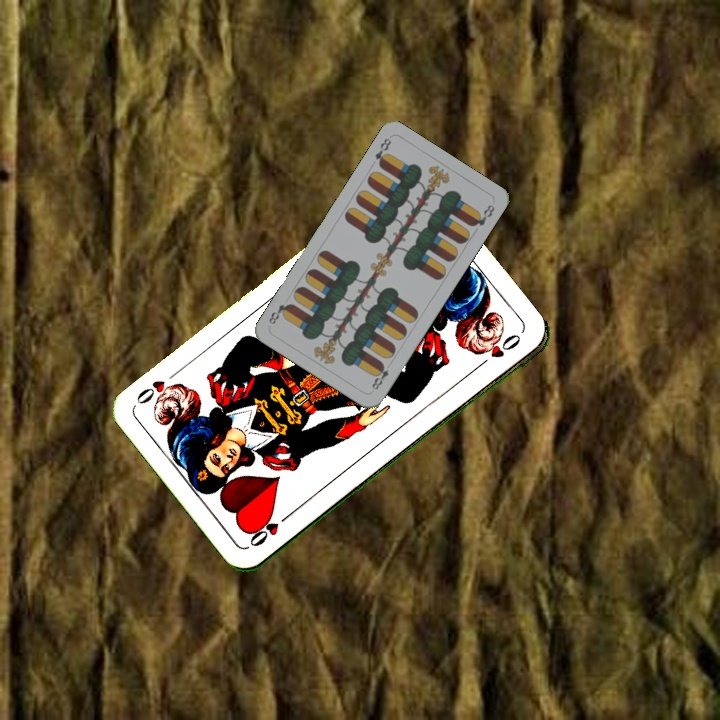E8: (371, 134, 394, 170), (368, 359, 391, 393)
HO: (245, 508, 295, 550)
